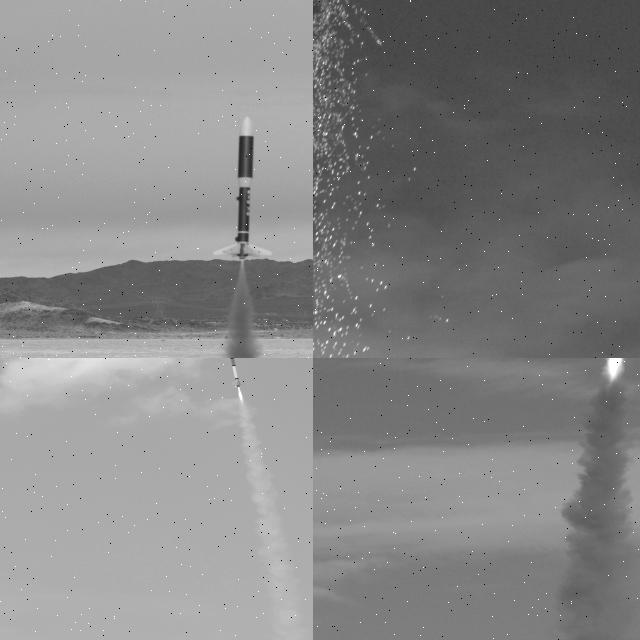Rocket: (212, 116, 275, 259), (230, 358, 245, 387)
